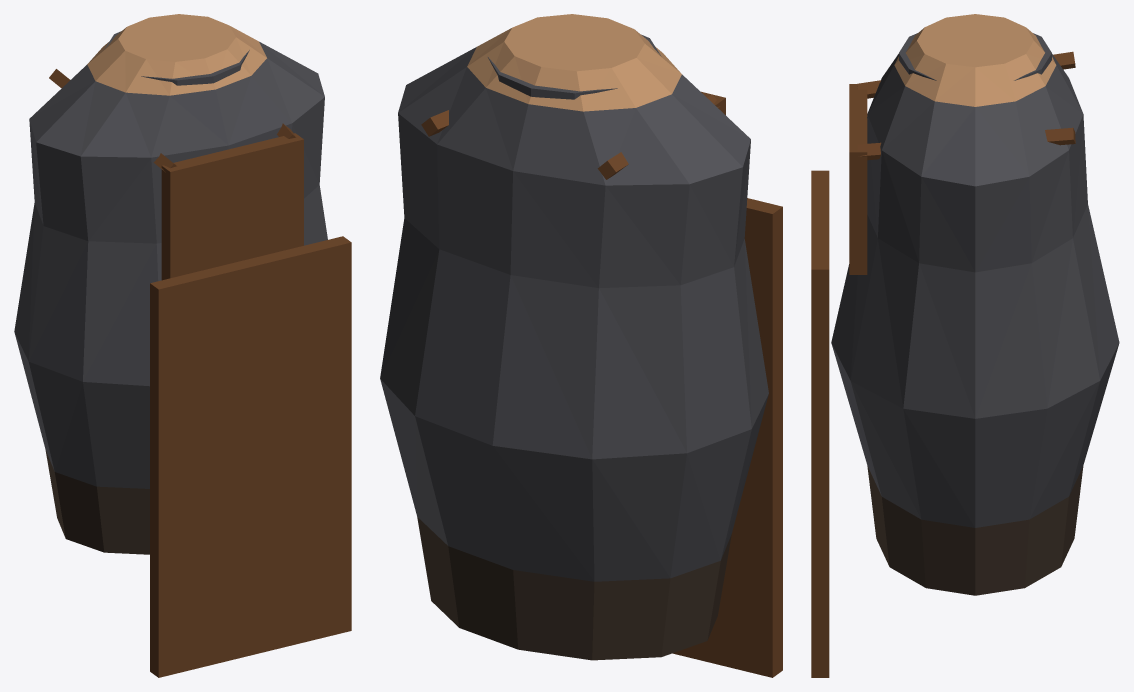
File: PersonSmithBody.obj
3 renders of one model, left to right at view 1: azimuth 30°, elevation 25°; view 2: azimuth 150°, elevation 25°; view 3: azimuth 270°, elevation 25°, orthographic. The views are drawn at different scales.
Parts seen in each view (by area): view 1: PersonSmithBody; view 2: PersonSmithBody; view 3: PersonSmithBody.
Boxes of the visible parts, box(x1,y1,x2,y2) form: PersonSmithBody: box(14, 14, 351, 677); PersonSmithBody: box(380, 14, 782, 677); PersonSmithBody: box(811, 14, 1119, 677).
Size of the model in its own units: 0.4 by 0.72 by 0.342.
